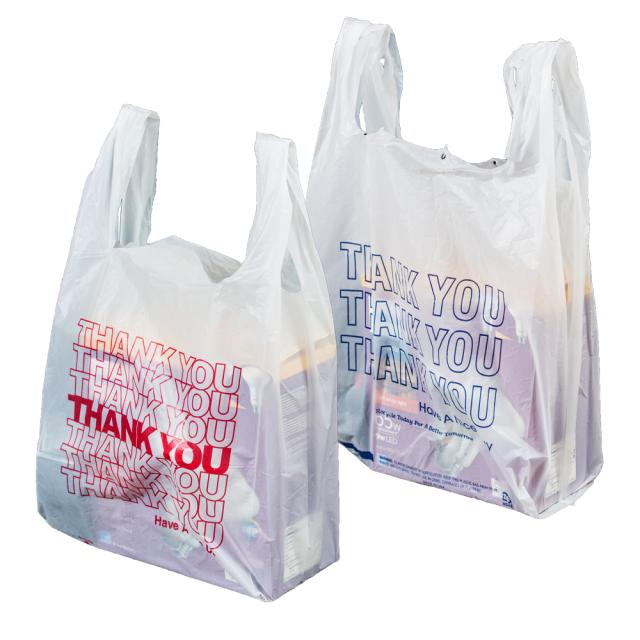plastic_bag: (15, 91, 370, 611), (307, 6, 622, 538)
